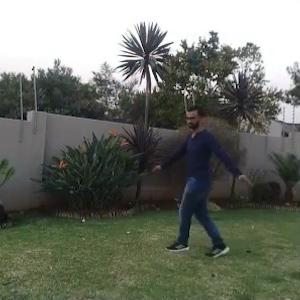land: (146, 92, 258, 276)
